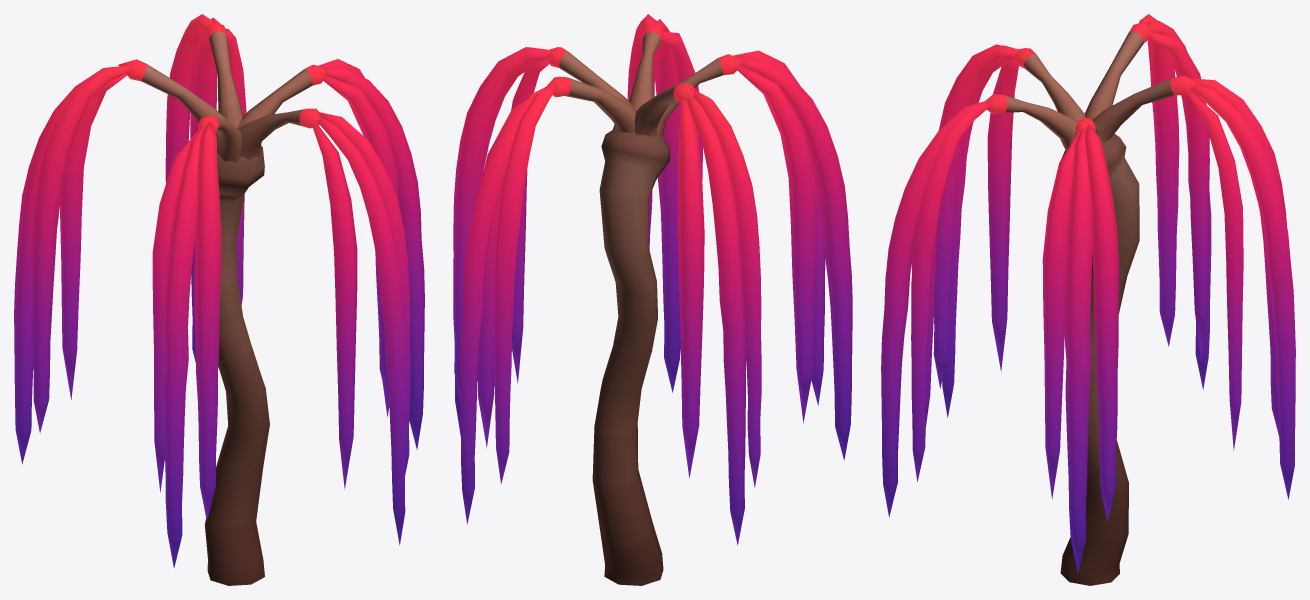
The model's file is capsule_contents_012.glb.
The picture shows the model from 3 angles, left to right: view 1: azimuth 30°, elevation 25°; view 2: azimuth 150°, elevation 25°; view 3: azimuth 270°, elevation 25°; orthographic projection. The views are drawn at different scales.
Parts seen in each view (by area): view 1: Сapsule_contents_012; view 2: Сapsule_contents_012; view 3: Сapsule_contents_012.
Boxes of the visible parts, <box> form: Сapsule_contents_012: <box>14,14,424,585</box>; Сapsule_contents_012: <box>453,14,852,585</box>; Сapsule_contents_012: <box>881,14,1295,585</box>.
Bounding box in the file's own units: 1.27 × 1.8 × 1.32.
Materials: 2 (2 with a texture image).
